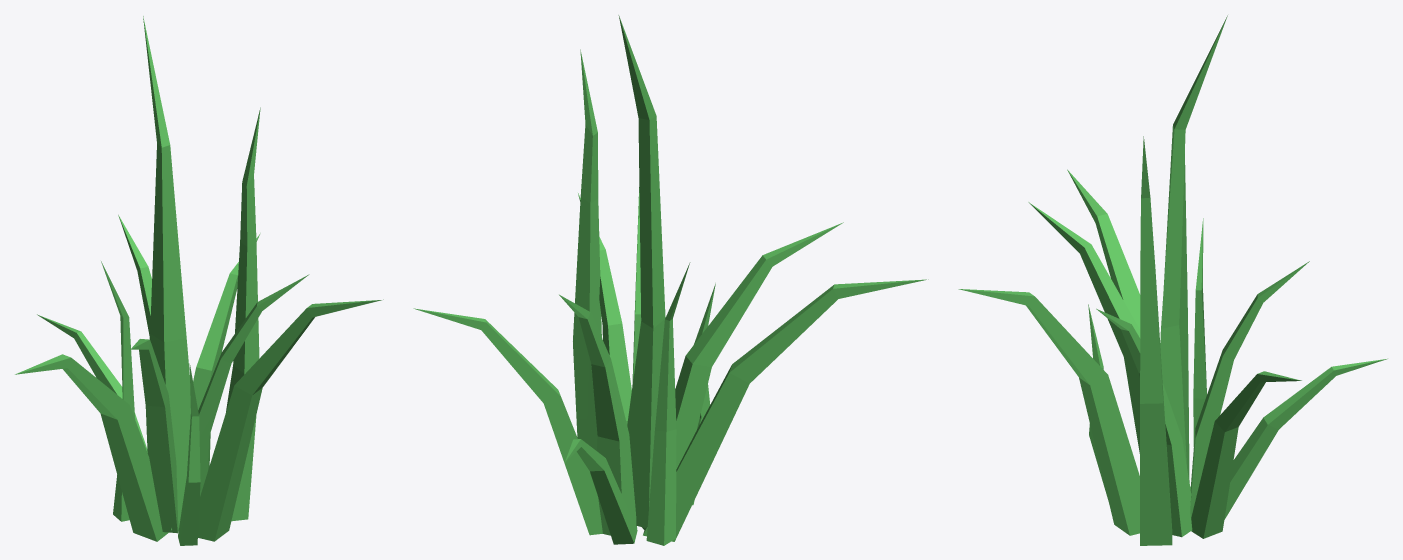
Rendered from Grass_3.fbx.
The picture shows the model from 3 angles, left to right: view 1: azimuth 30°, elevation 25°; view 2: azimuth 150°, elevation 25°; view 3: azimuth 270°, elevation 25°; orthographic projection. The views are drawn at different scales.
Parts seen in each view (by area): view 1: Grass_01, Grass_02; view 2: Grass_01, Grass_02; view 3: Grass_01, Grass_02.
Part boxes in pixels (x1=…): Grass_01: x1=15, y1=16, x2=383, y2=545; Grass_02: x1=118, y1=215, x2=309, y2=533; Grass_01: x1=413, y1=15, x2=928, y2=545; Grass_02: x1=559, y1=193, x2=843, y2=535; Grass_01: x1=958, y1=15, x2=1387, y2=545; Grass_02: x1=1028, y1=202, x2=1309, y2=537.
Bounding box in the file's own units: 173 × 227 × 175.
